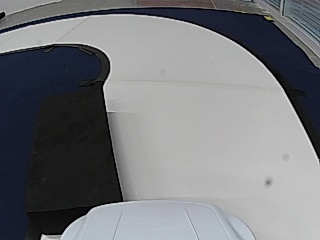block: (32, 92, 121, 222)
